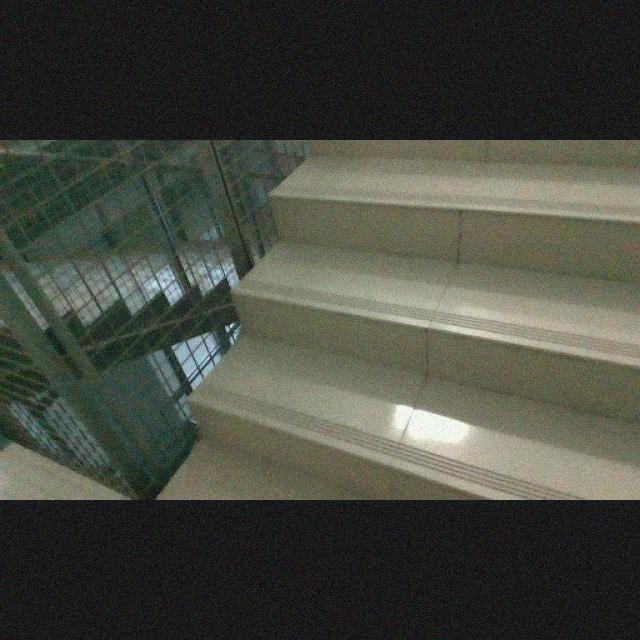stair: (211, 134, 640, 478)
